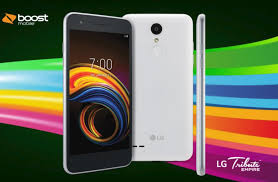lg: (63, 9, 137, 177), (127, 9, 194, 164)
